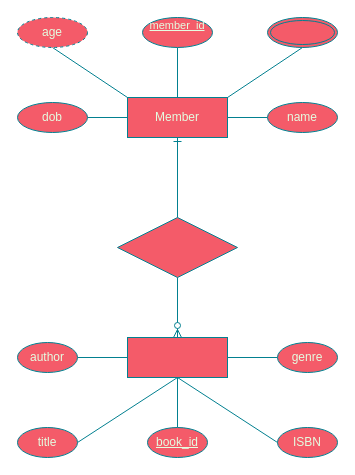
Image size: 355x475. Some labels were removed from this diagram. Each missing label, with the box of its shape:
Book: (126, 336, 228, 378)
Borrows: (116, 216, 238, 278)
phone_no: (266, 16, 338, 48)
